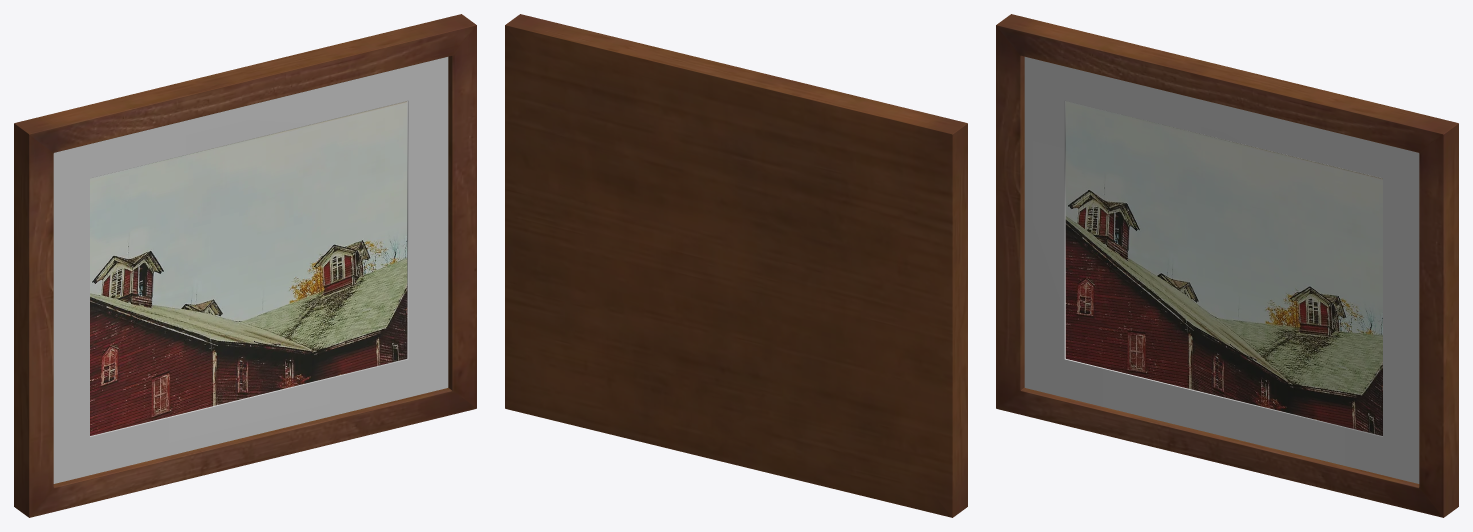
File: abo-B075YNL7GJ.glb
3 renders of one model, left to right at view 1: azimuth 30°, elevation 25°; view 2: azimuth 150°, elevation 25°; view 3: azimuth 330°, elevation 25°, orthographic.
Bounding box in the file's own units: 0.558 × 0.457 × 0.033.
Materials: 1 (1 with a texture image).
